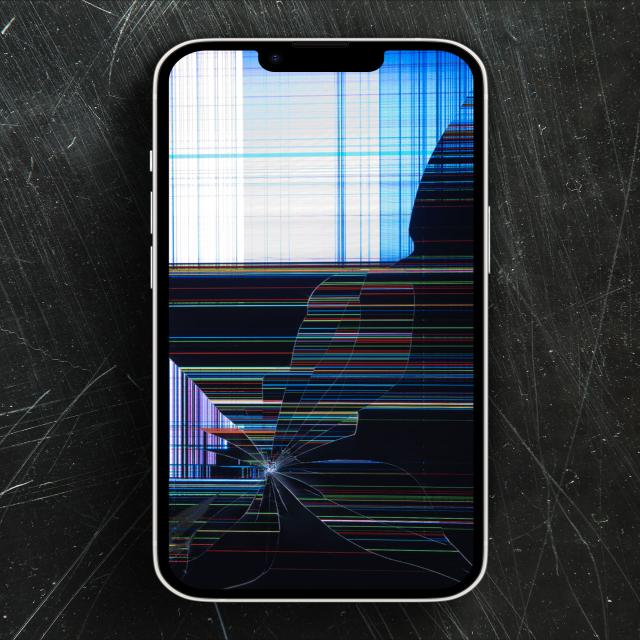phones: (152, 39, 488, 600)
